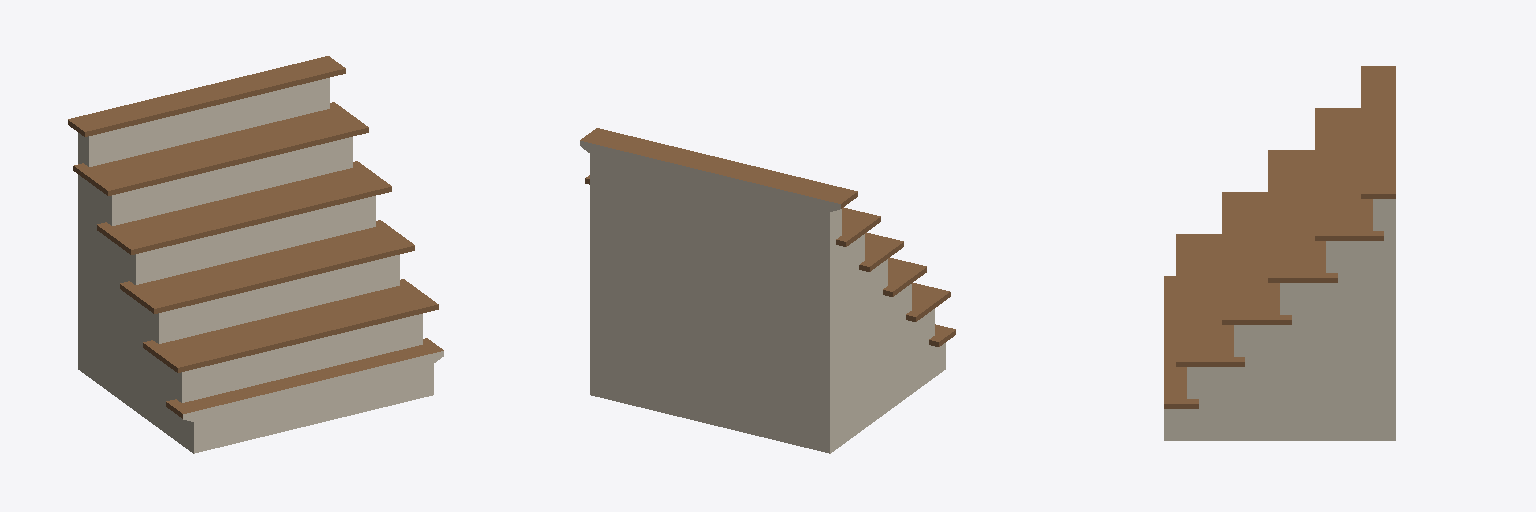
Rendered from Stairs_Straight_Steps.obj.
The picture shows the model from 3 angles: view 1: azimuth 30°, elevation 25°; view 2: azimuth 150°, elevation 25°; view 3: azimuth 270°, elevation 25°; orthographic projection.
Parts seen in each view (by area): view 1: object1; view 2: object1; view 3: object1.
Boxes of the visible parts, box(x1,y1,x2,y2) form: object1: box(68, 56, 443, 453); object1: box(580, 128, 955, 453); object1: box(1164, 66, 1395, 440).
Size of the model in its own units: 1.3 by 1.2 by 1.